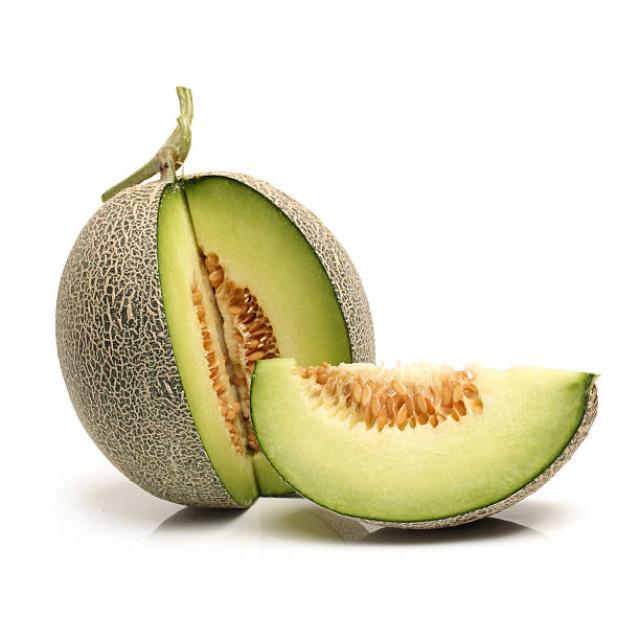Melon: (45, 135, 256, 518), (50, 160, 390, 358), (272, 360, 602, 528)
